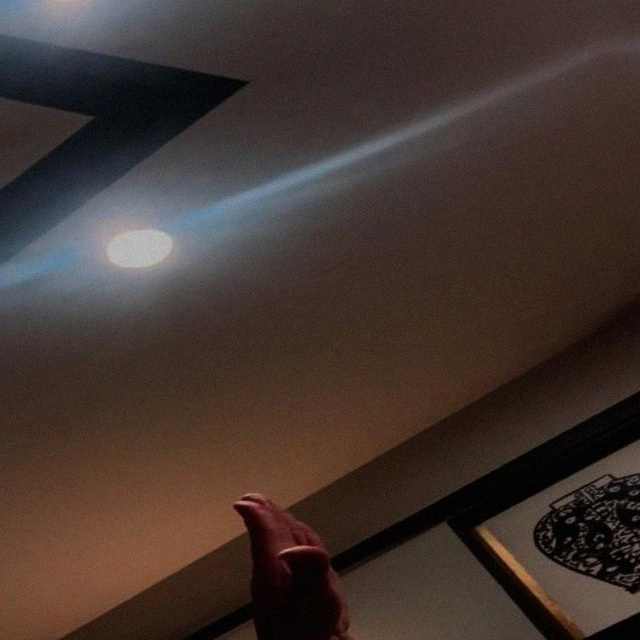Paper: (216, 476, 362, 640)
